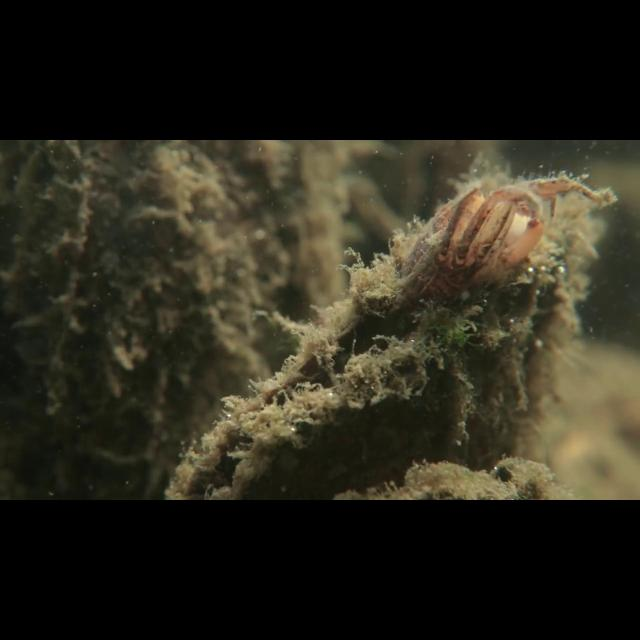Oyster-Open: (163, 178, 595, 497)
